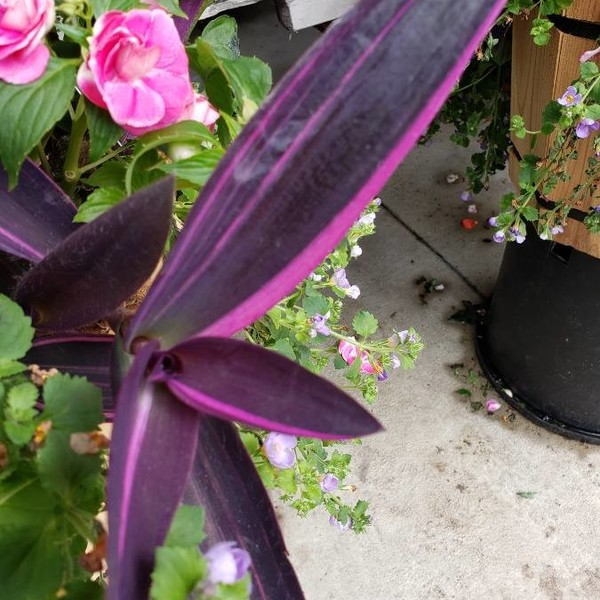obstacle: (8, 65, 330, 564), (28, 4, 223, 185), (474, 45, 577, 276)
